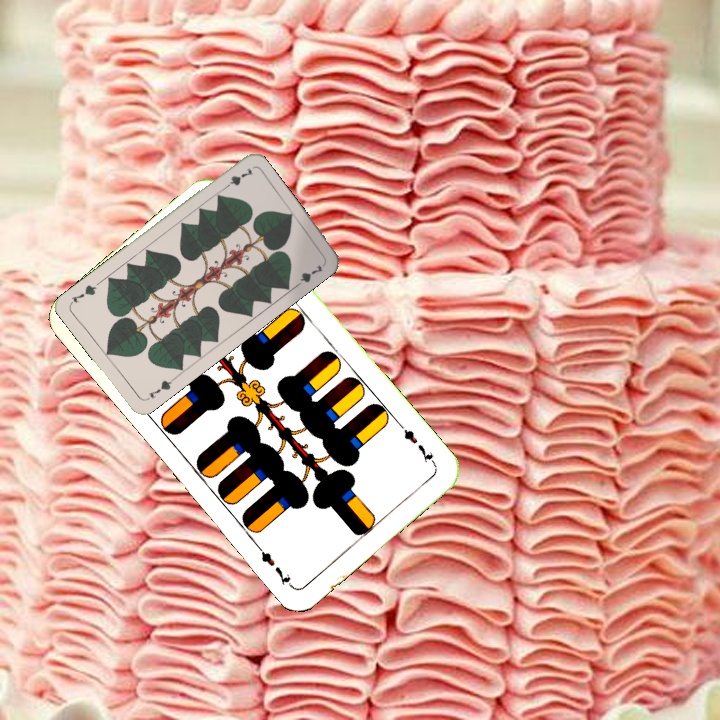E7: (395, 420, 439, 469)
G7: (218, 164, 256, 193), (141, 375, 177, 403)
